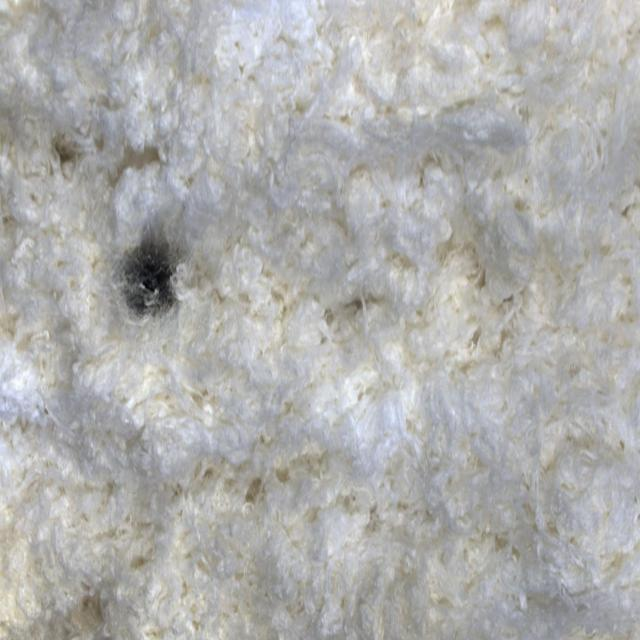dust: (90, 175, 222, 386)
